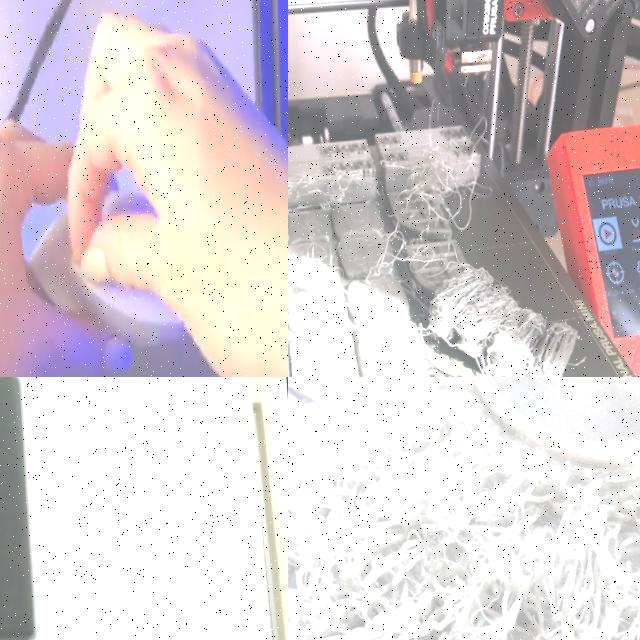spaghetti: (288, 101, 640, 377), (288, 377, 640, 640)
